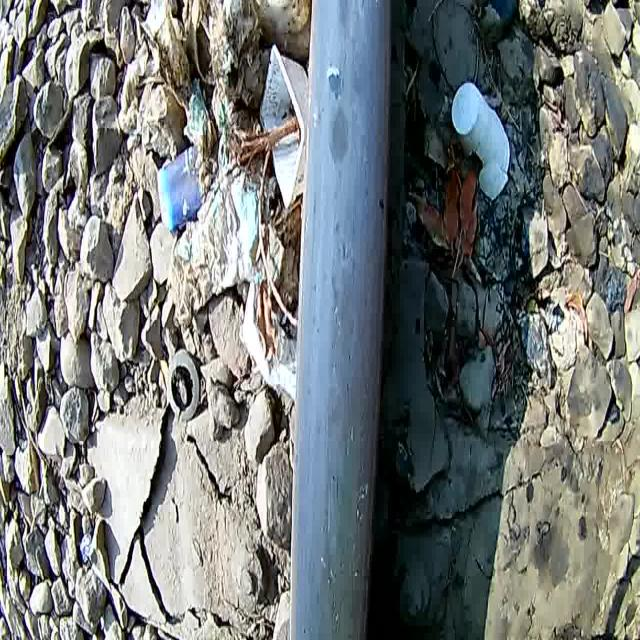Squats: (270, 0, 412, 640)
